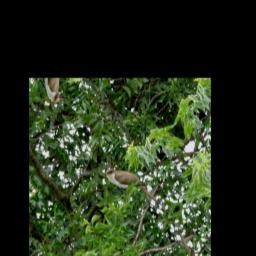Cuckoo: (99, 150, 163, 228)
